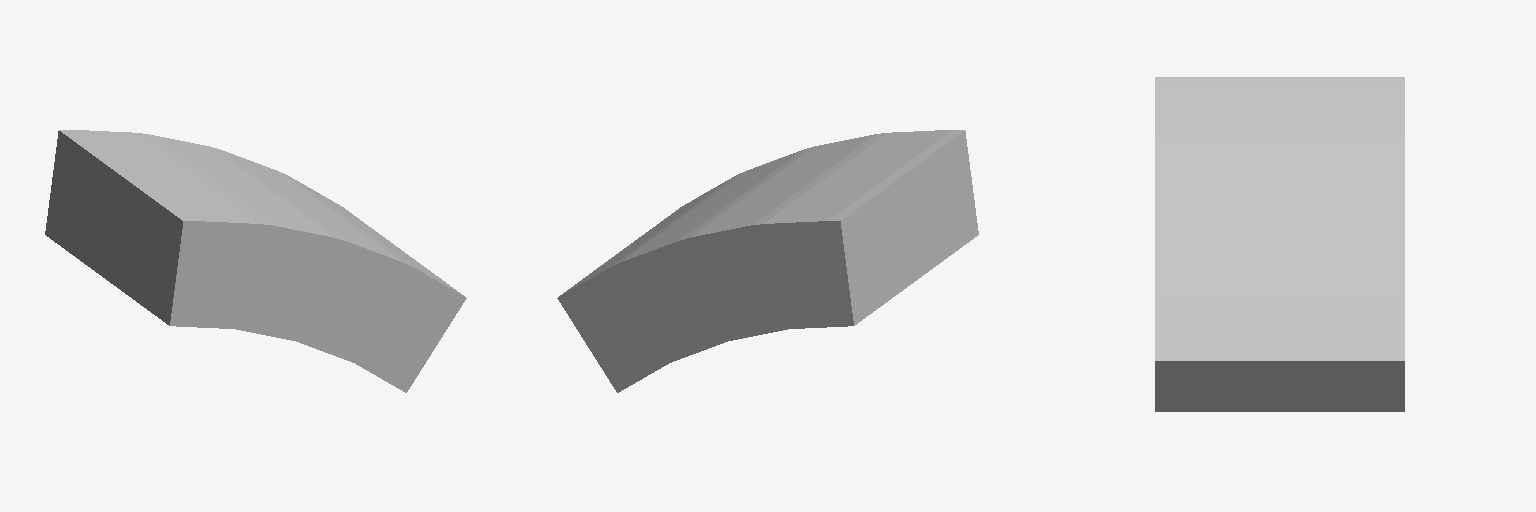
Rendered from smooth_segmental_arch_3.obj.
3 renders of one model, left to right at view 1: azimuth 30°, elevation 25°; view 2: azimuth 150°, elevation 25°; view 3: azimuth 270°, elevation 25°, orthographic.
Visible parts, largest first — view 1: cube.006; view 2: cube.006; view 3: cube.006.
Boxes of the visible parts, x1,y1,x2,y2 form: cube.006: [45, 130, 466, 392]; cube.006: [557, 130, 978, 392]; cube.006: [1155, 77, 1404, 411].
Bounding box in the file's own units: 1.39 × 1.01 × 1.01.